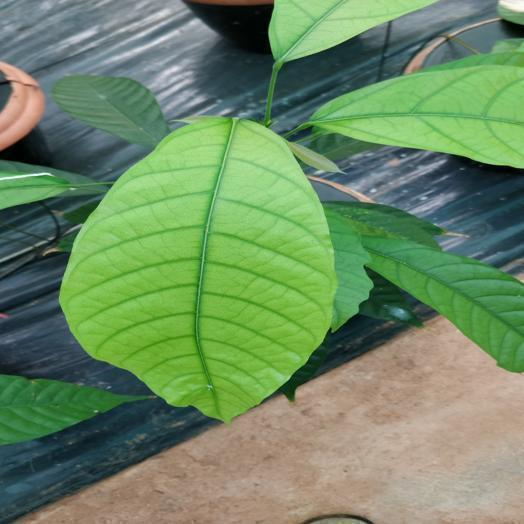Healthy Leaf: (363, 237, 523, 371), (0, 375, 146, 444), (52, 75, 169, 147), (325, 210, 372, 331), (324, 202, 443, 248), (0, 172, 75, 209)
Iron: (60, 117, 336, 421), (305, 65, 523, 167), (270, 0, 435, 63)
